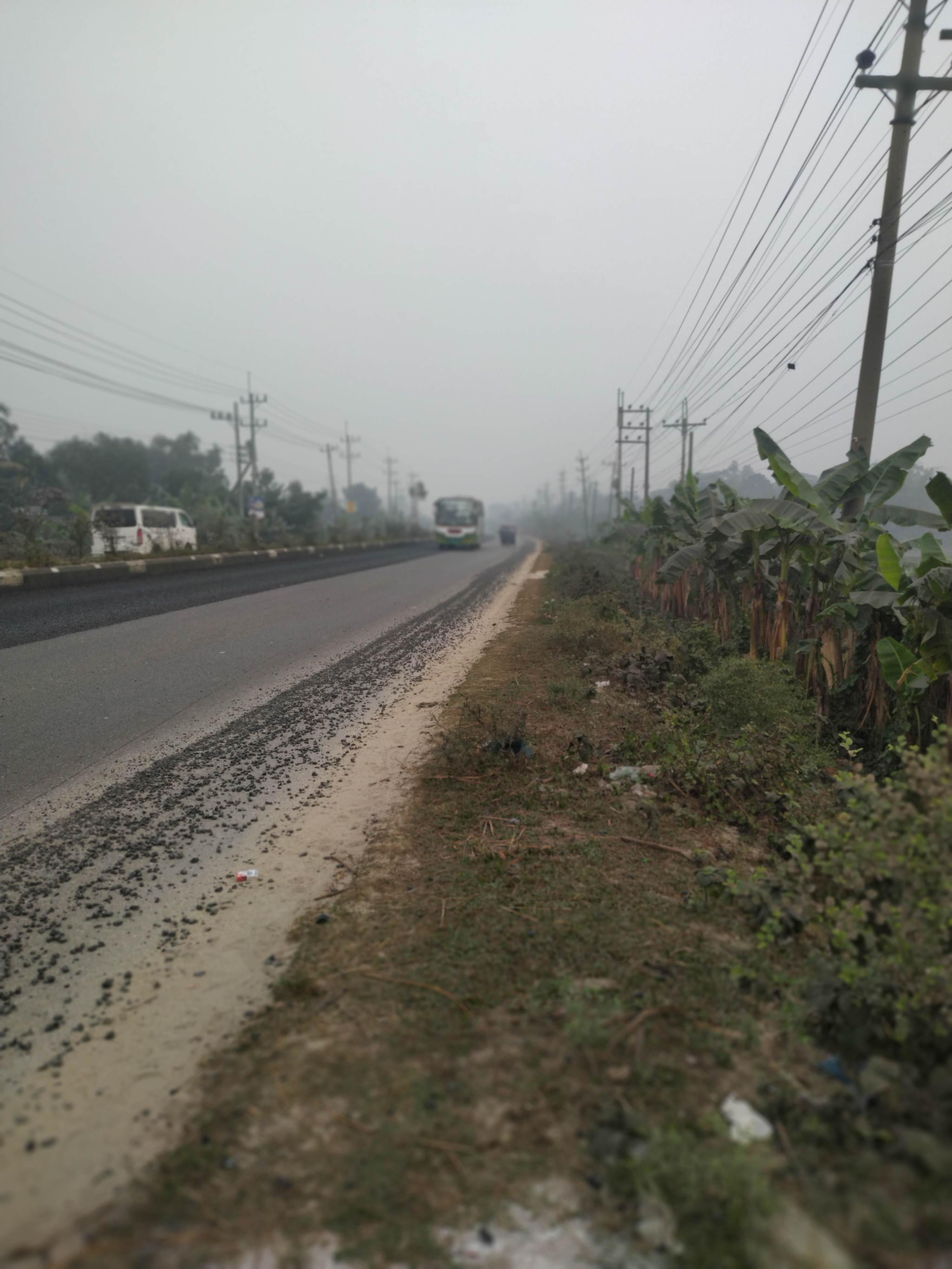Bus: (405, 477, 493, 563)
Car: (74, 488, 234, 576)
